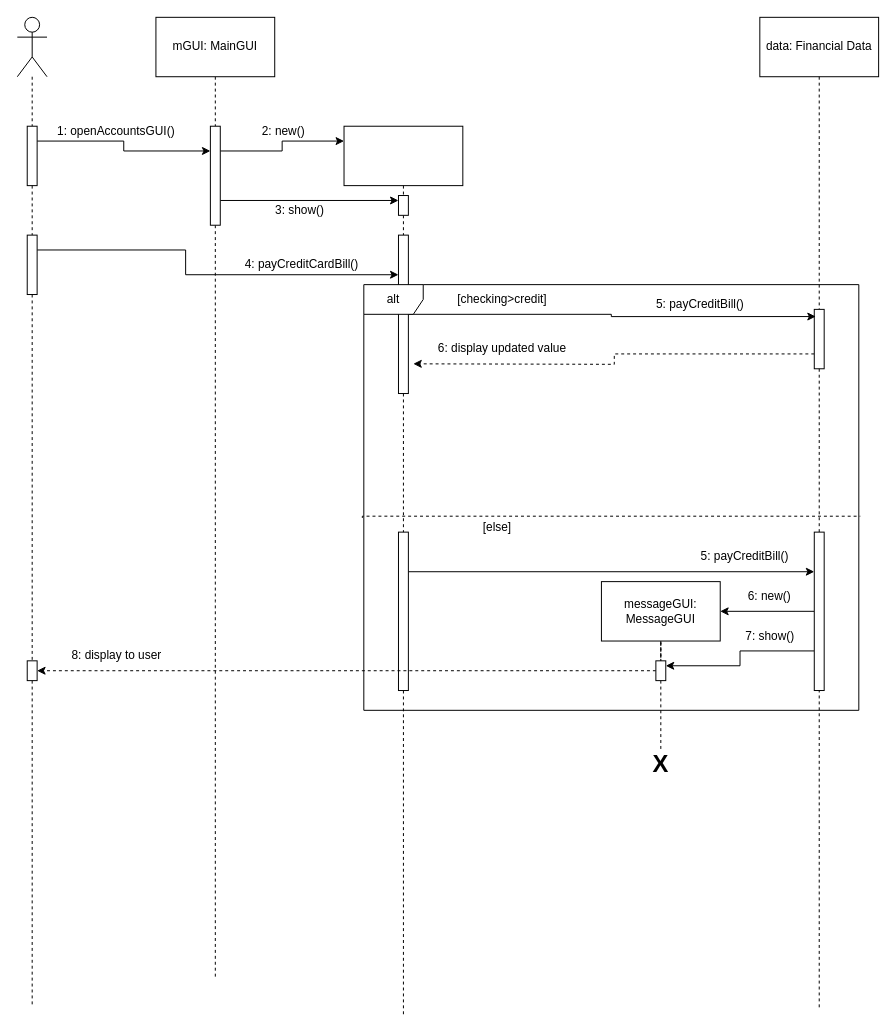
This 896x1036 diagram has some shape labels left out. The shapes that lost their labels are listed below. From the top down, each one's centre as x and y in pixels, then its label:
At (31,46): "Actor".
At (403,155): "accountGUI: AccountsGUI".
